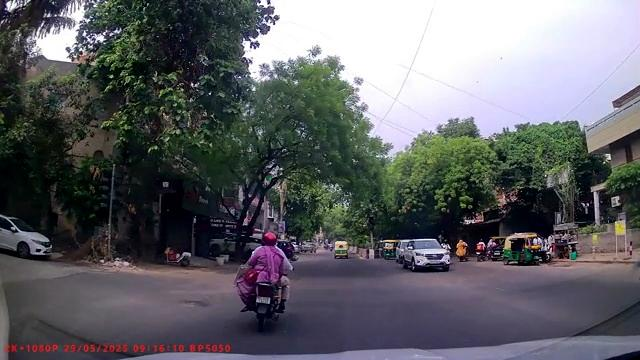passenger_with_helmet: (235, 230, 291, 331)
